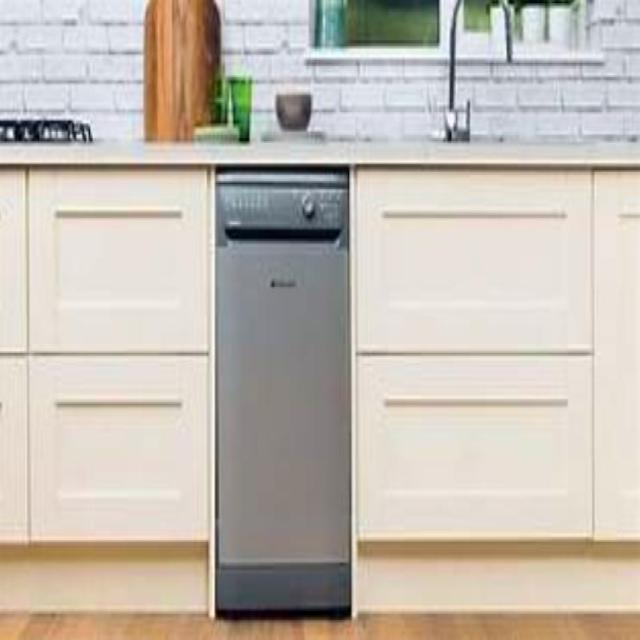dishwasher: (213, 160, 350, 618)
